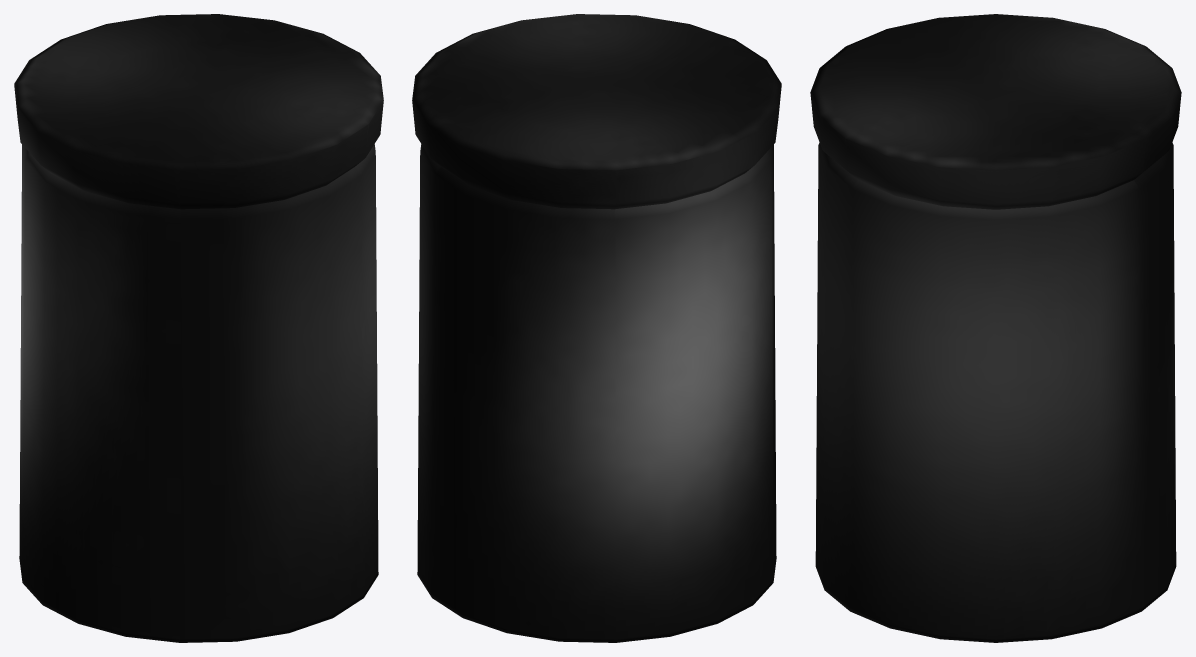
Rendered from krakencap.obj.
3 renders of one model, left to right at view 1: azimuth 30°, elevation 25°; view 2: azimuth 150°, elevation 25°; view 3: azimuth 270°, elevation 25°, orthographic.
Parts seen in each view (by area): view 1: capmesh; view 2: capmesh; view 3: capmesh.
Boxes of the visible parts, bbox=[...] form: capmesh: bbox=[14, 14, 383, 642]; capmesh: bbox=[412, 14, 781, 642]; capmesh: bbox=[810, 14, 1181, 642].
Bounding box in the file's own units: 0.2177 × 0.3111 × 0.2177.
Materials: 1 (1 with a texture image).
